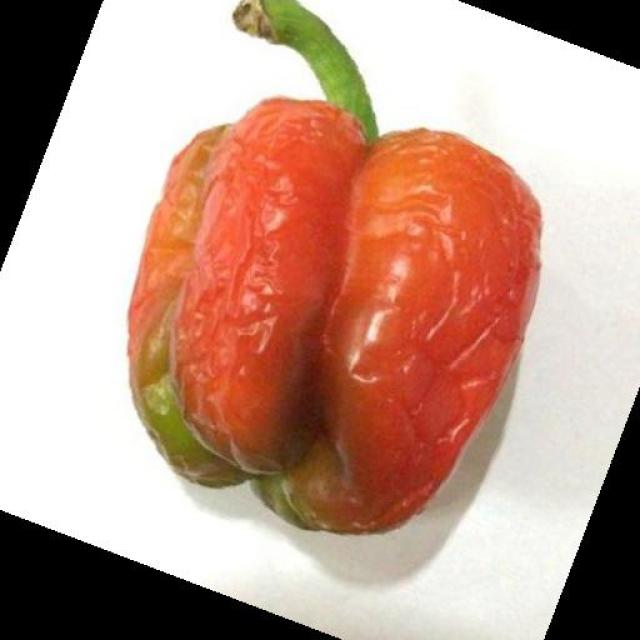Stale_Capsicum: (116, 62, 472, 550)
